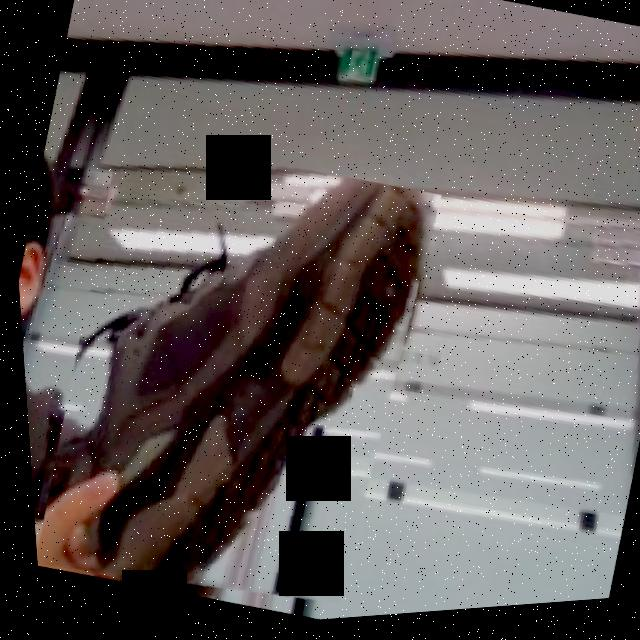shoe: (7, 116, 461, 640)
